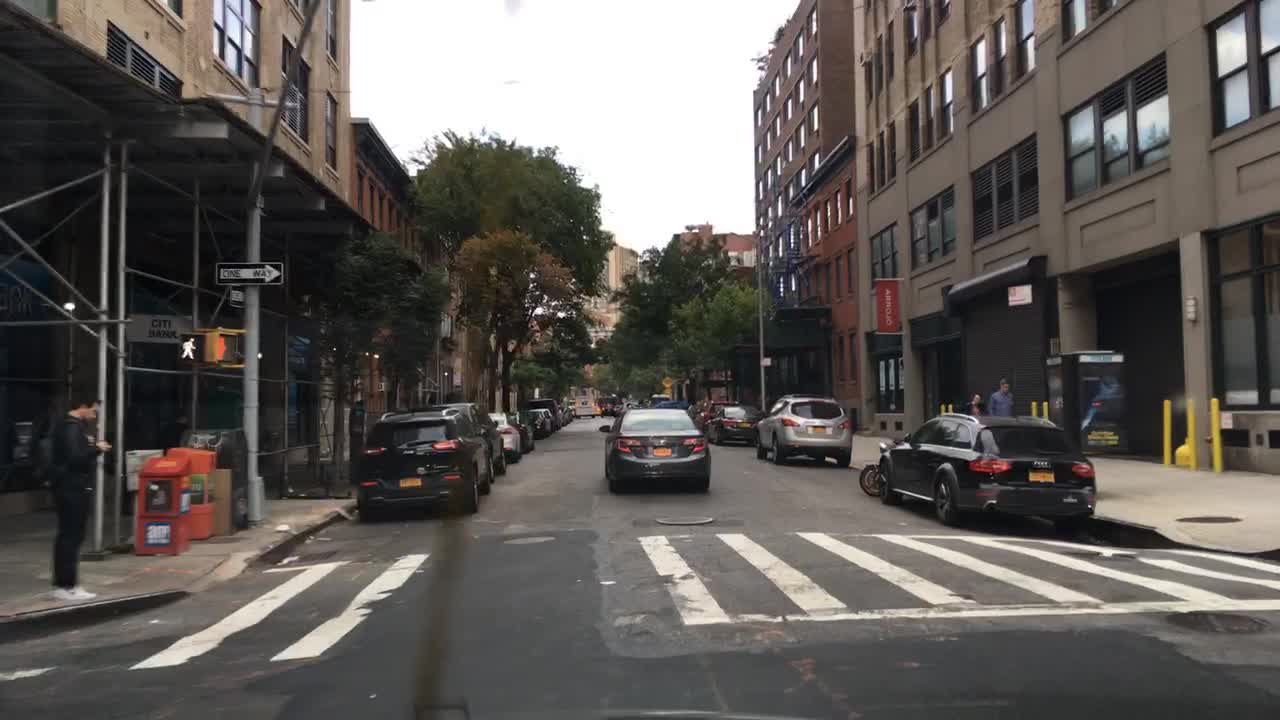car: (875, 414, 1100, 529), (354, 410, 493, 521), (401, 399, 506, 484), (751, 394, 854, 465), (706, 401, 766, 446), (485, 410, 524, 464), (525, 397, 563, 431), (508, 411, 538, 451), (524, 405, 557, 436), (697, 399, 725, 432), (574, 395, 602, 415), (602, 394, 622, 412), (685, 402, 702, 420), (650, 391, 671, 405), (561, 402, 574, 422)
motor: (857, 435, 927, 499), (627, 398, 647, 406)
person: (44, 391, 117, 596), (597, 401, 716, 492), (992, 378, 1012, 424), (966, 391, 985, 434)
traffic light: (200, 332, 245, 366), (176, 329, 201, 358)
traffic sign: (213, 259, 285, 285), (230, 285, 251, 305), (661, 376, 673, 388)
